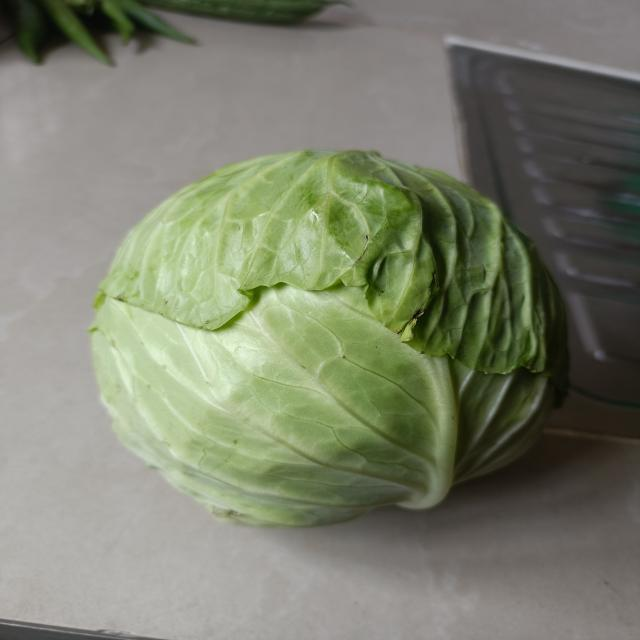cabbage: (89, 147, 573, 529)
